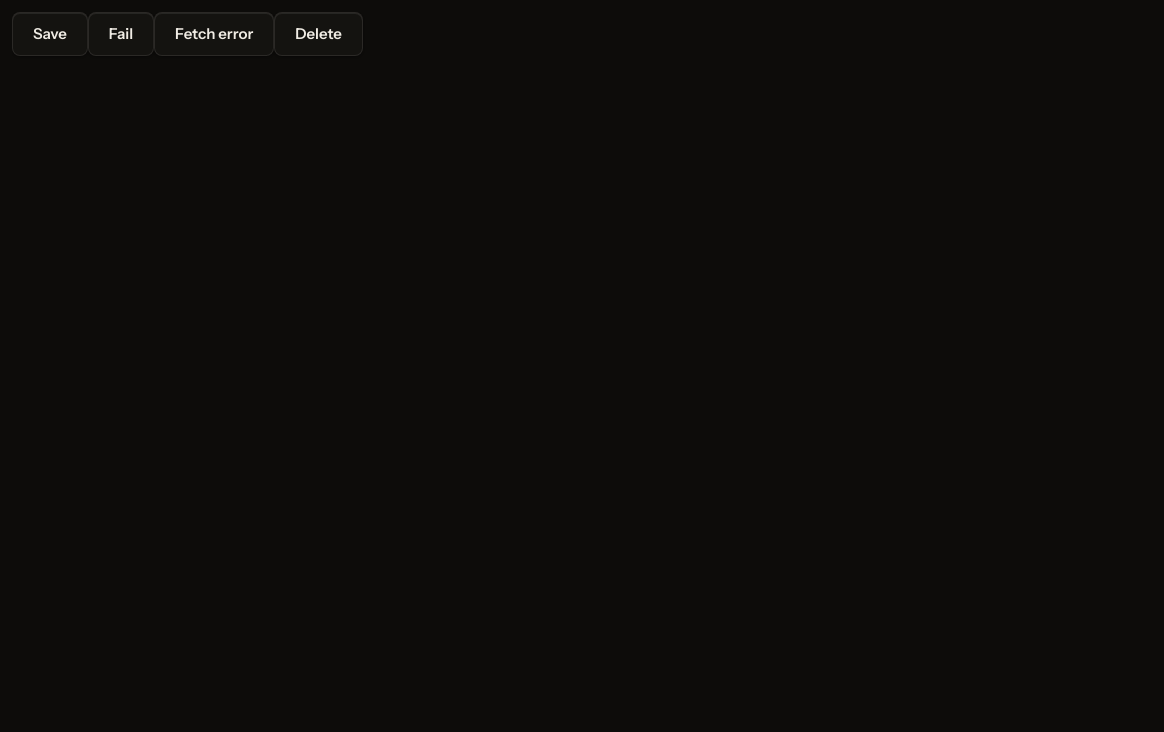
Scenario: toasts › runs the action and dismisses when the action button is used
This screenshot has width=1164, height=732.
Click the button "Delete" at (318, 34), box [274,12,363,56]
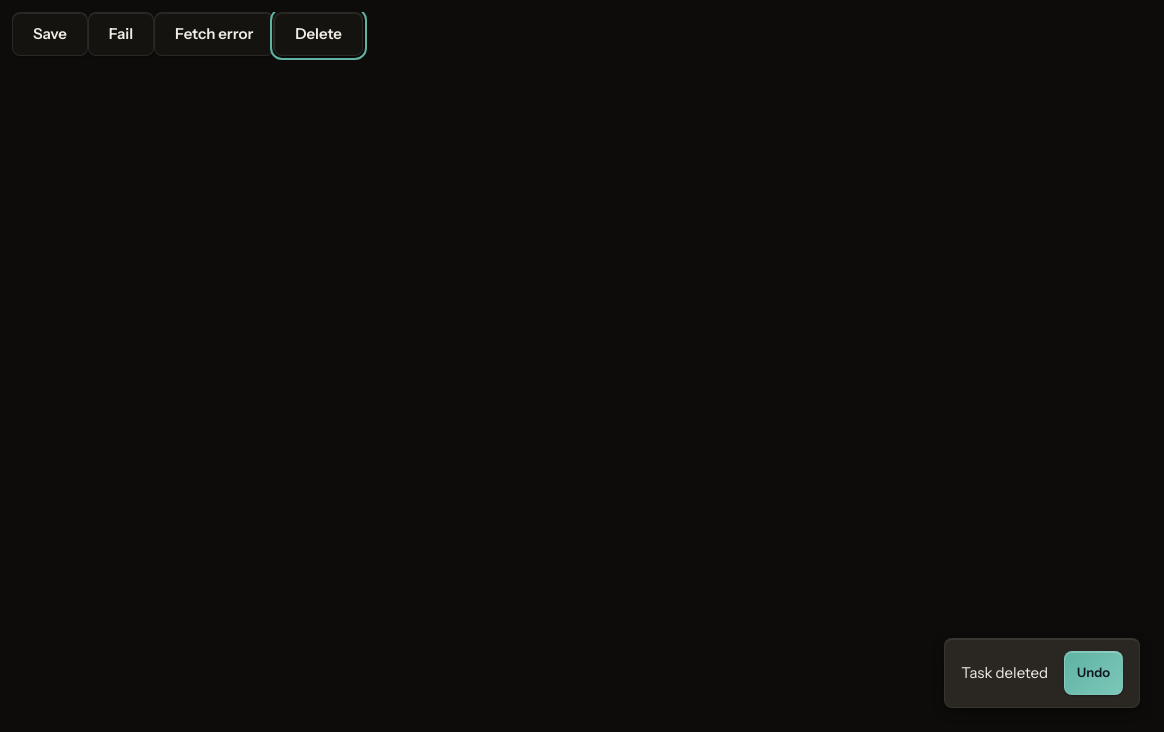
Click the button "Undo" at (1094, 673), box [1064,651,1123,695]
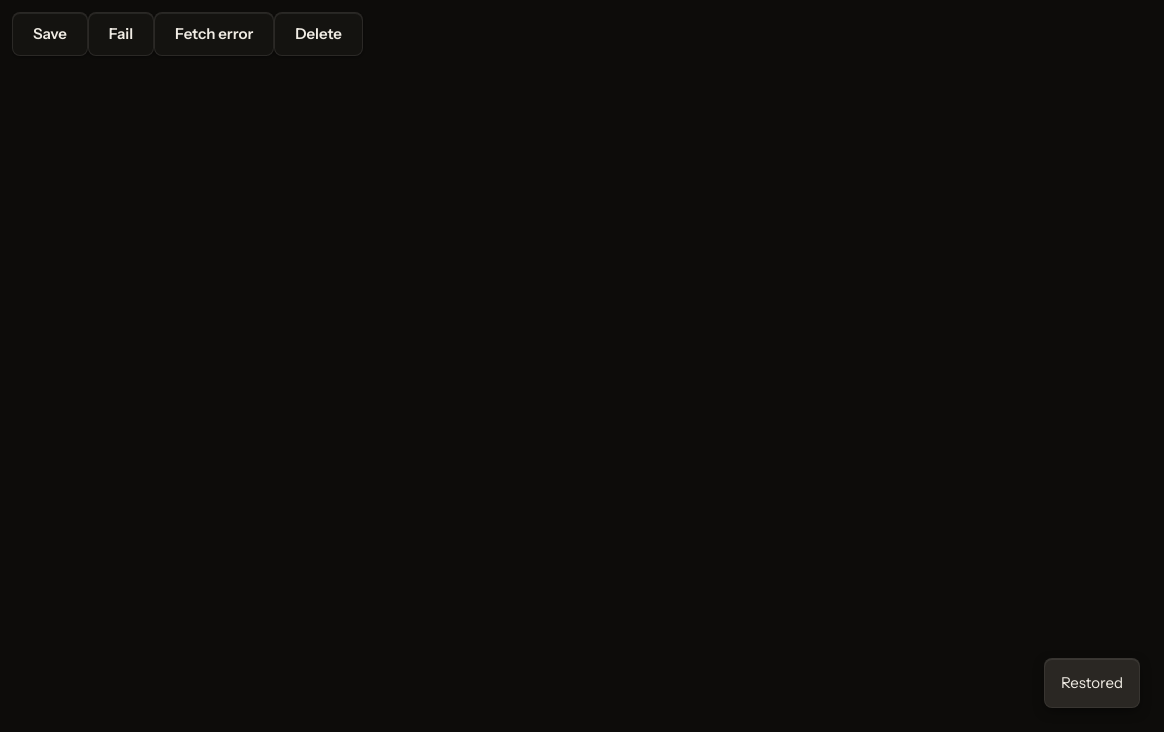
Result: the text "Task deleted" is gone
Result: the text "Restored" is shown at [1061,671,1123,695]
